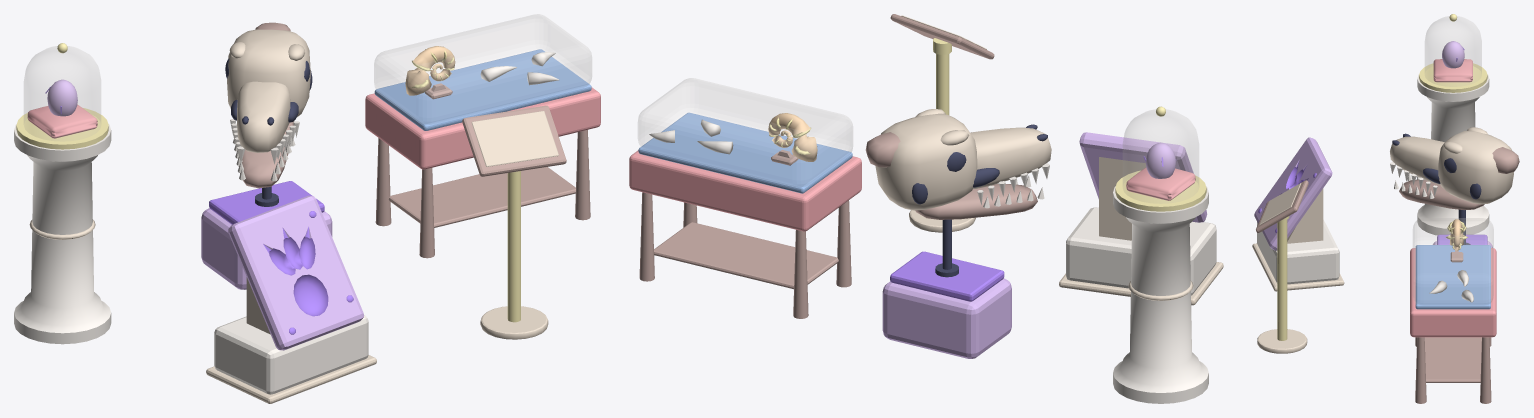
Rendered from museu-retro.glb.
3 renders of one model, left to right at view 1: azimuth 30°, elevation 25°; view 2: azimuth 150°, elevation 25°; view 3: azimuth 270°, elevation 25°, orthographic. The views are drawn at different scales.
Parts seen in each view (by area): view 1: vitrine, pegada, redoma, cranio, placa, texto; view 2: vitrine, cranio, redoma, pegada, placa; view 3: vitrine, cranio, redoma, pegada, placa, texto.
Boxes of the visible parts, x1,y1,x2,y2 form: vitrine: [365, 14, 600, 258]; pegada: [206, 195, 376, 403]; redoma: [14, 43, 111, 344]; cranio: [201, 22, 332, 289]; placa: [462, 105, 566, 339]; texto: [471, 111, 558, 166]; vitrine: [629, 78, 861, 318]; cranio: [865, 109, 1051, 358]; redoma: [1113, 106, 1208, 403]; pegada: [1059, 132, 1223, 305]; placa: [890, 14, 994, 232]; vitrine: [1410, 218, 1496, 403]; cranio: [1390, 127, 1519, 247]; redoma: [1417, 14, 1489, 235]; pegada: [1252, 137, 1344, 291]; placa: [1256, 180, 1308, 353]; texto: [1259, 183, 1301, 224].
Size of the model in its own units: 2.63 by 1.27 by 1.48.
